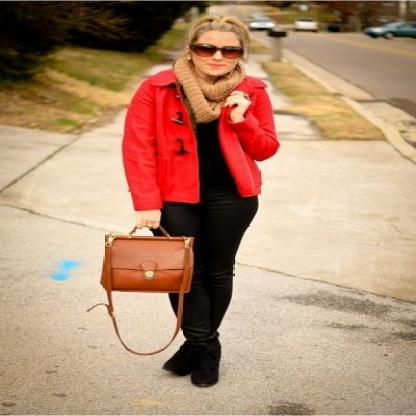bag: (96, 224, 192, 340)
jacket: (122, 69, 282, 210)
pants: (150, 191, 257, 342)
shirt: (192, 119, 236, 202)
shoe: (187, 329, 221, 387)
sunglass: (190, 34, 244, 70)
